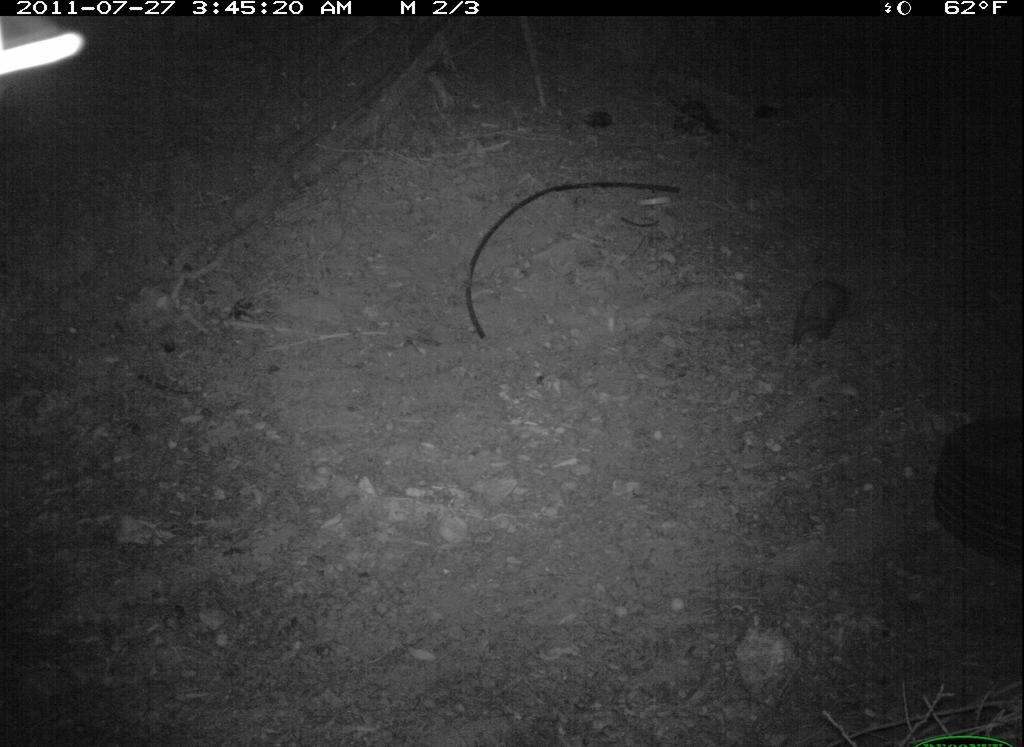opossum: (774, 273, 863, 381)
